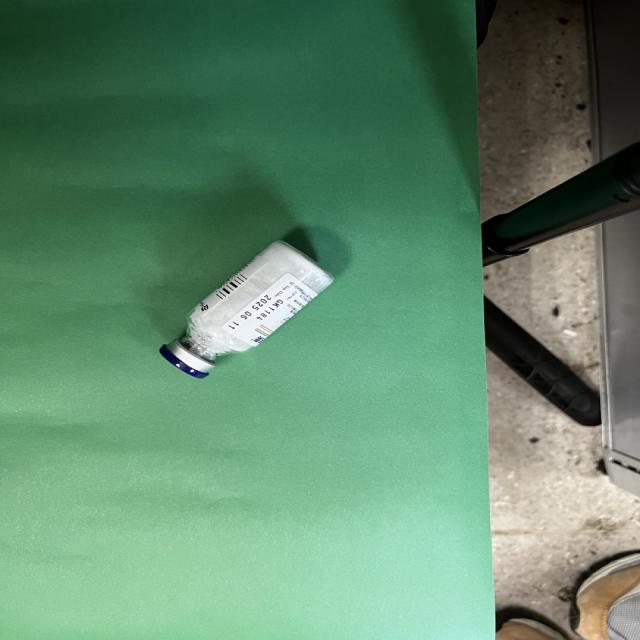Vials: (161, 241, 333, 378)
